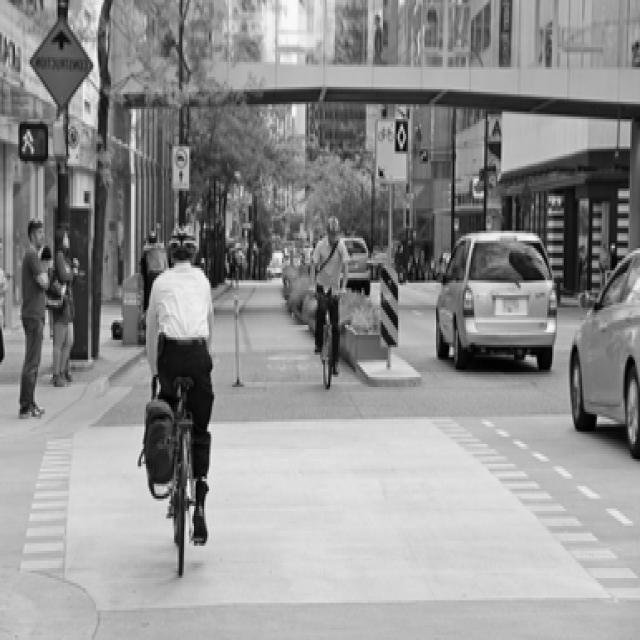Helmet: (166, 221, 202, 263), (324, 210, 346, 246)
